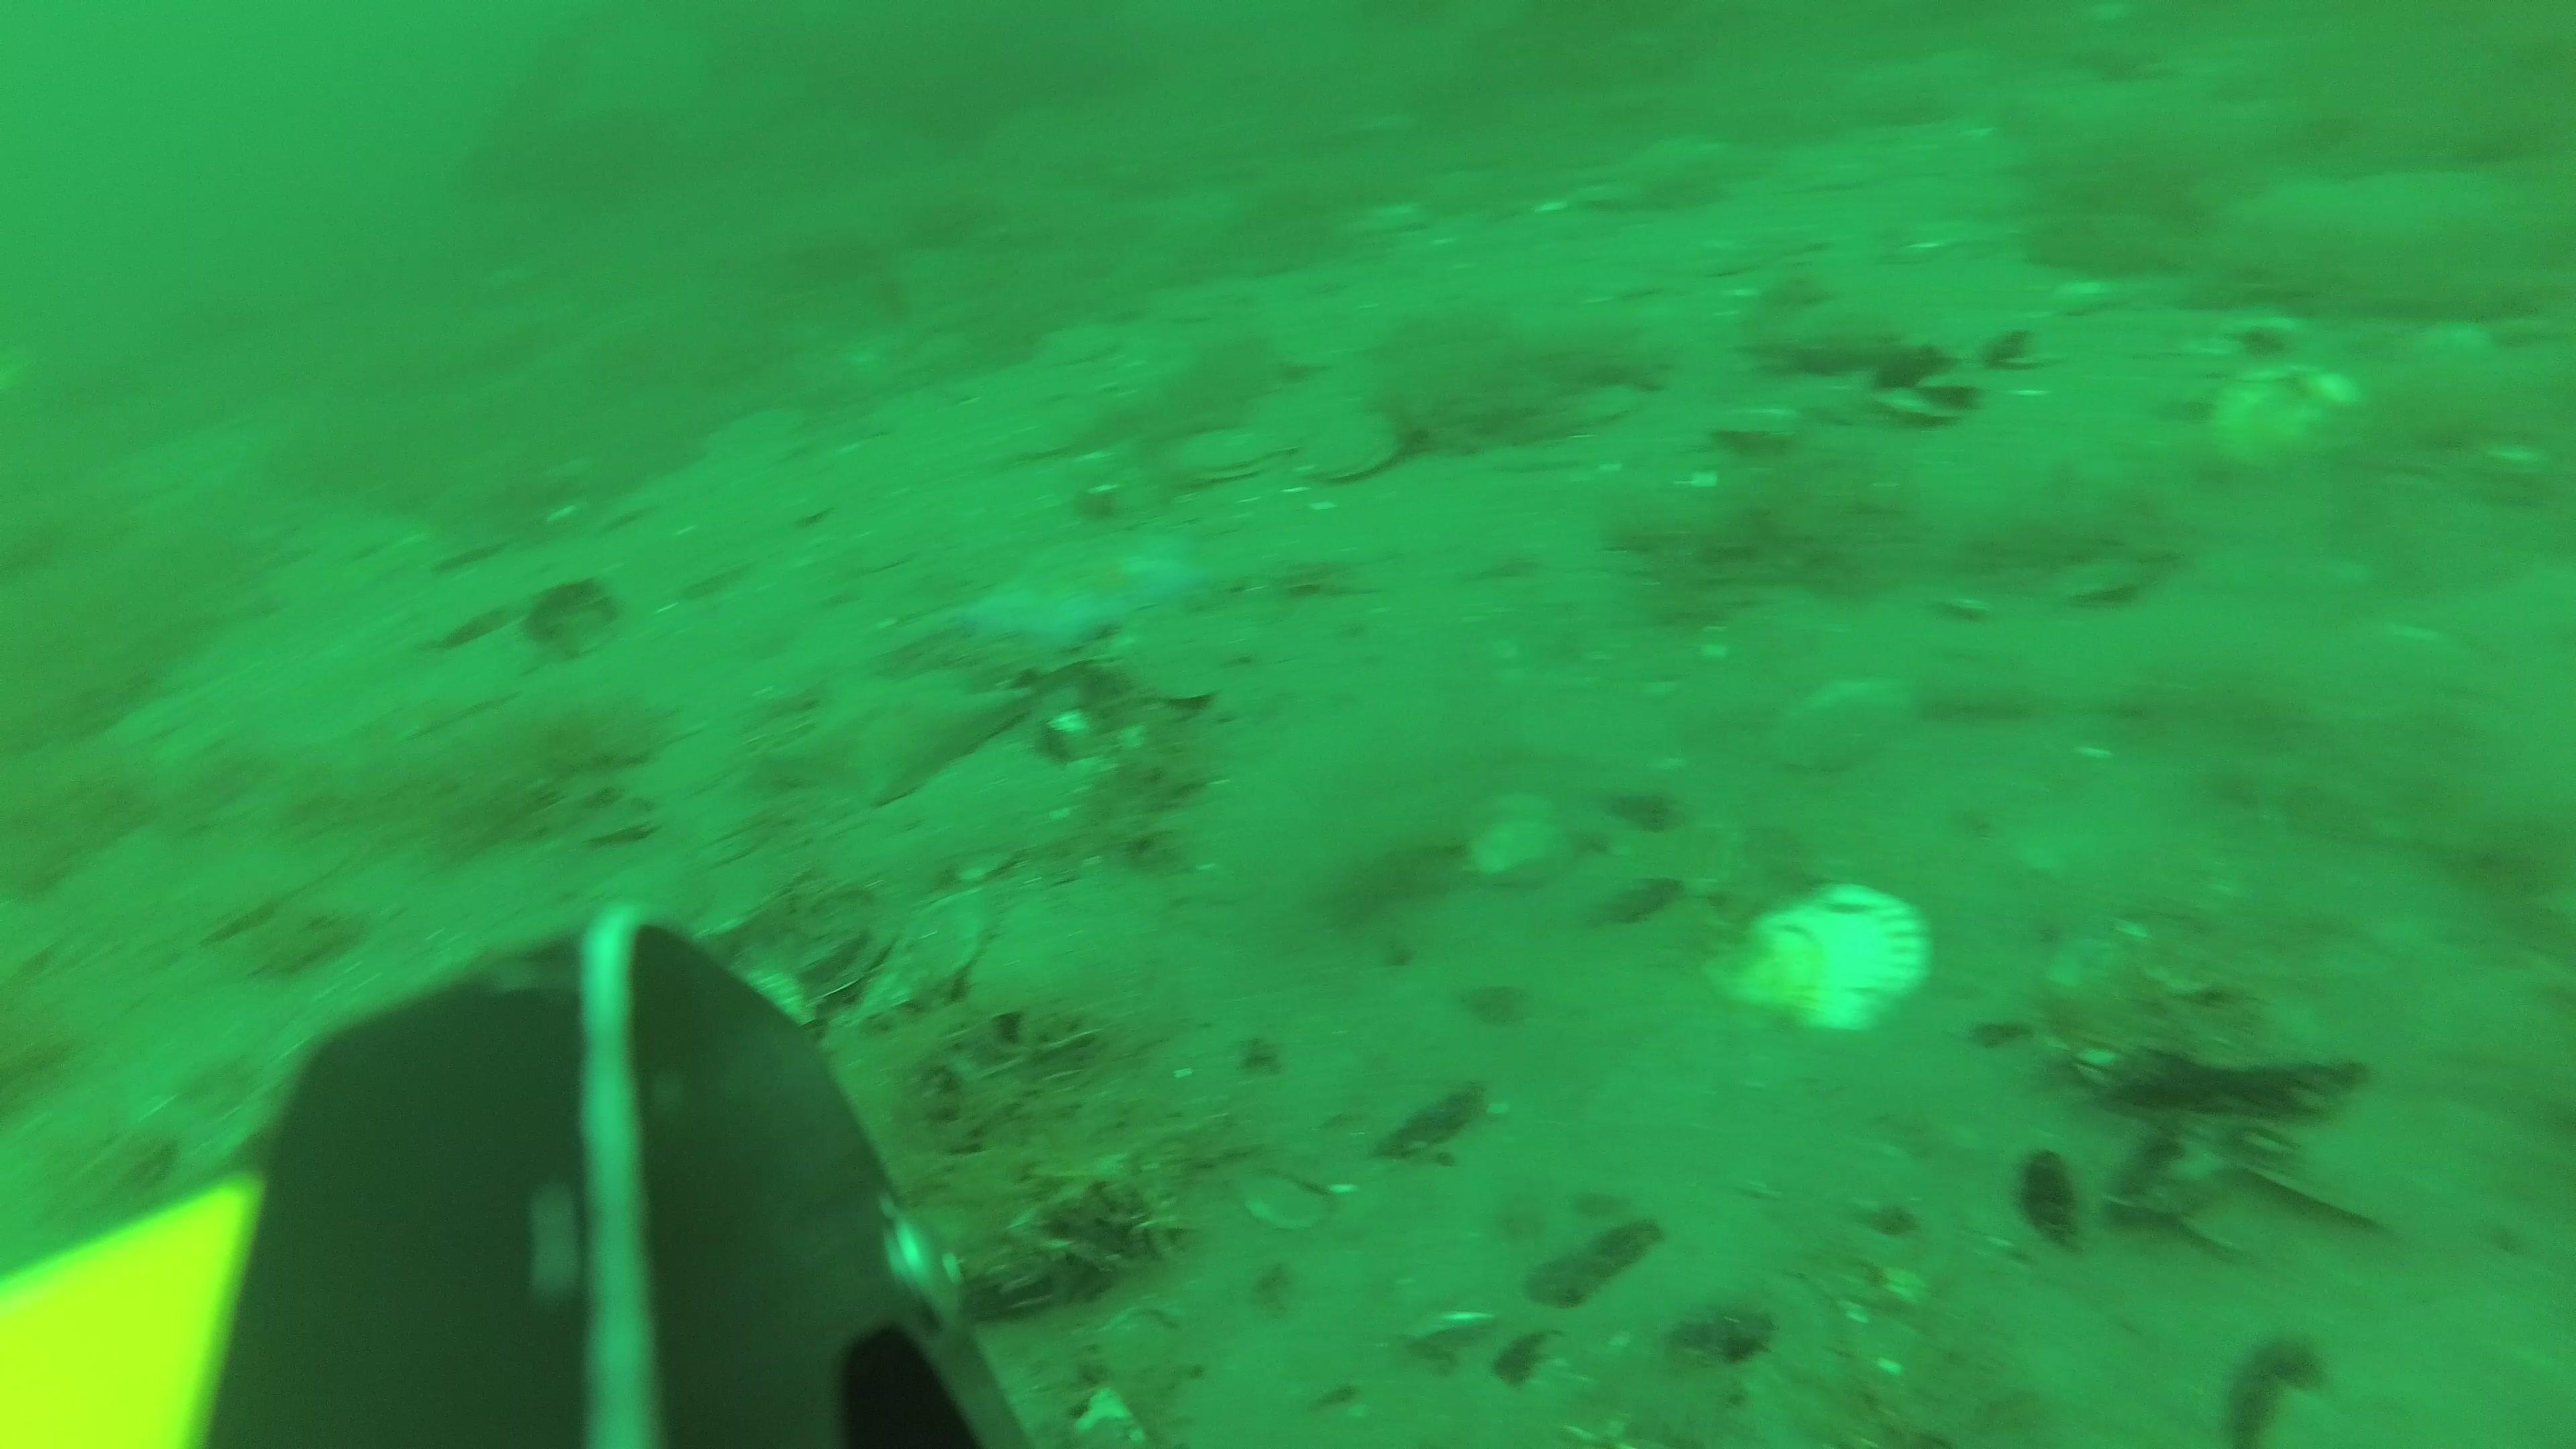scallop: (1713, 883, 1930, 1031), (1780, 658, 1921, 768), (2220, 359, 2353, 460), (1313, 400, 1408, 481), (1470, 810, 1555, 888), (1185, 423, 1277, 485)
starfish: (763, 671, 1028, 812), (901, 527, 1219, 644)
